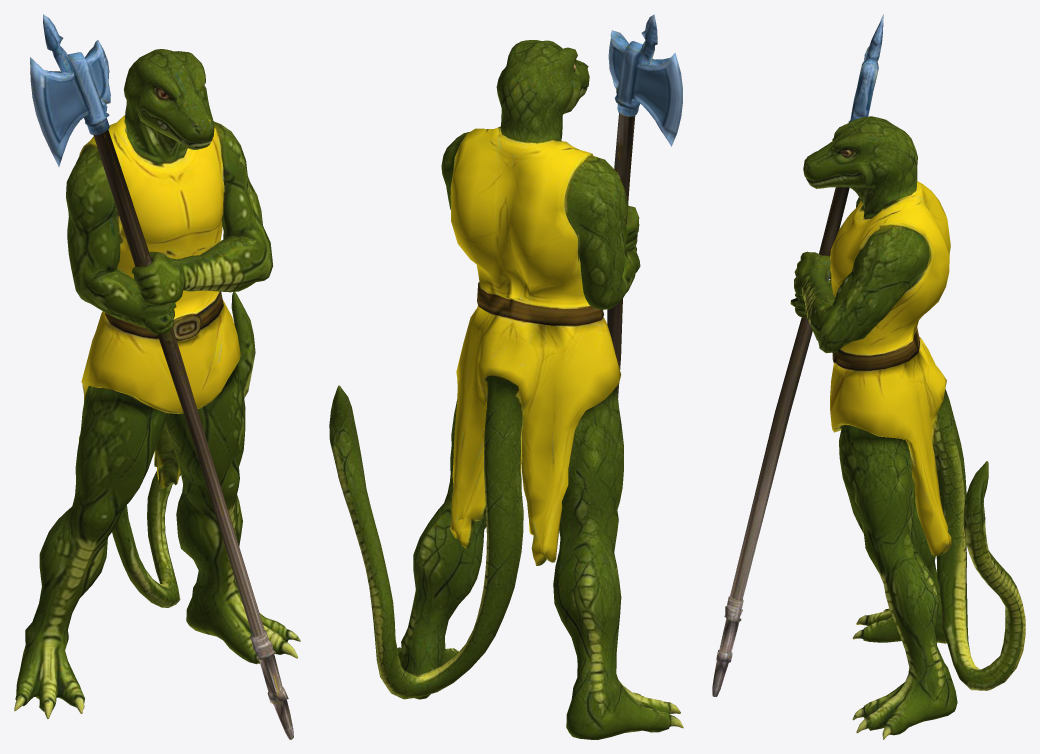
Rendered from fante.glb.
The picture shows the model from 3 angles, left to right: view 1: azimuth 30°, elevation 25°; view 2: azimuth 150°, elevation 25°; view 3: azimuth 270°, elevation 25°; orthographic projection. The views are drawn at different scales.
Size of the model in its own units: 0.4185 by 0.9497 by 0.4375.
Materials: 1 (1 with a texture image).
